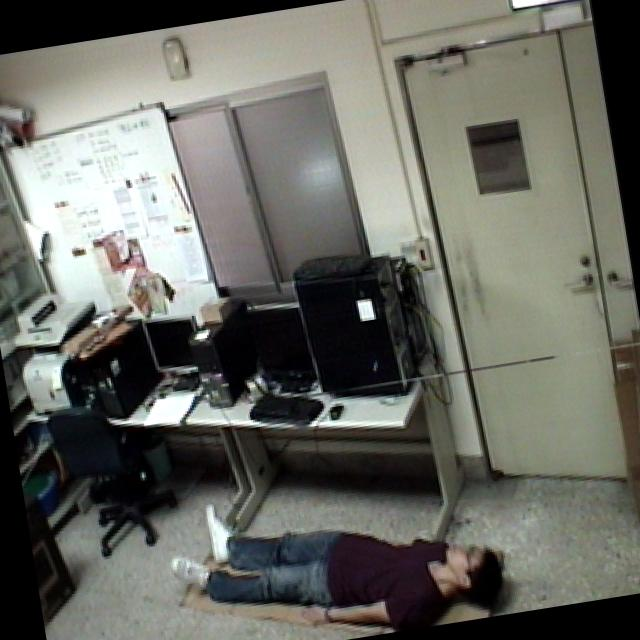lie: (153, 441, 516, 640)
